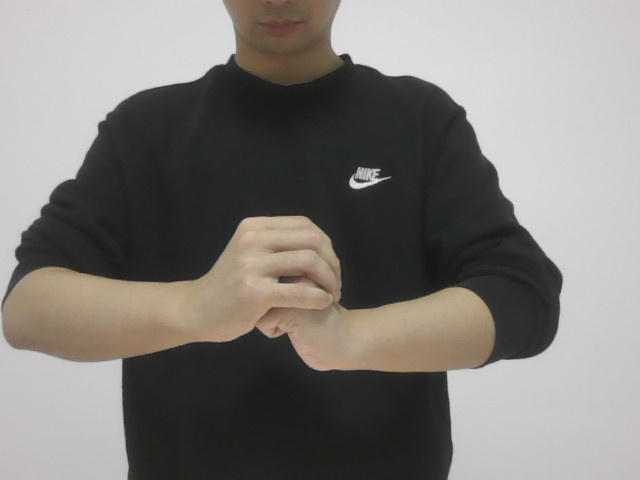wish: (206, 209, 350, 376)
